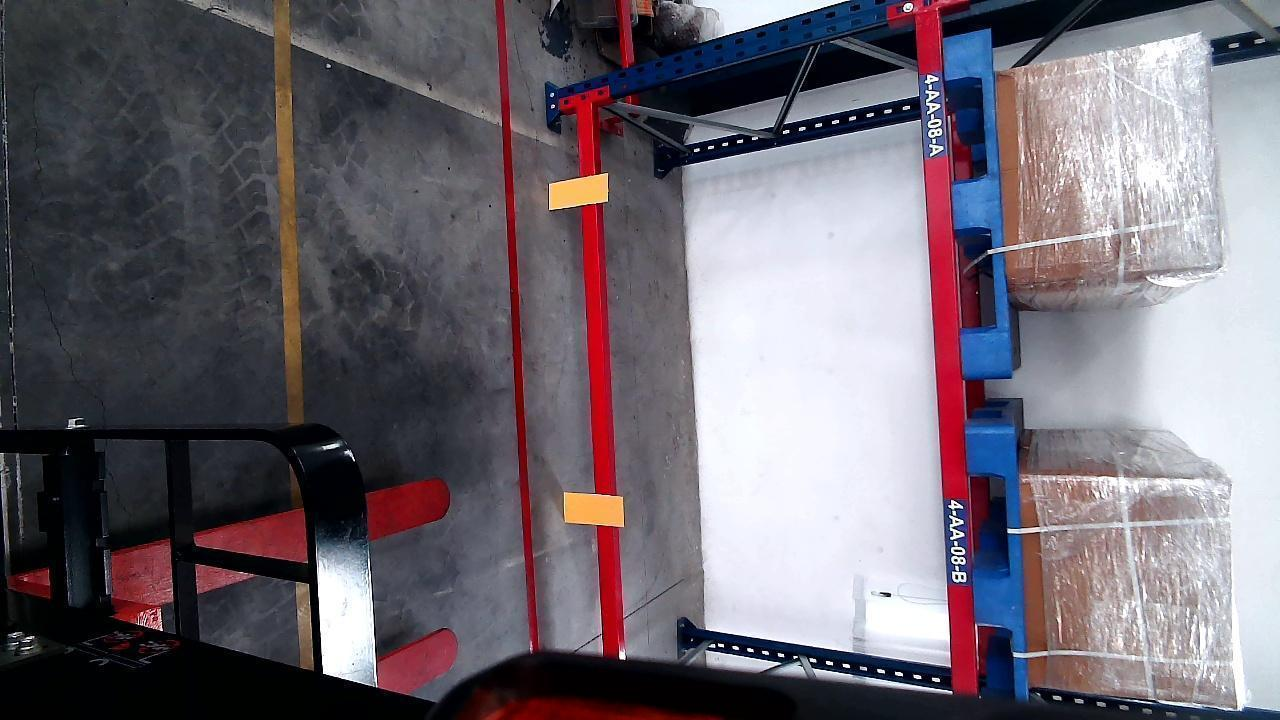red_line: (495, 0, 543, 652)
yellow_line: (275, 0, 305, 423)
